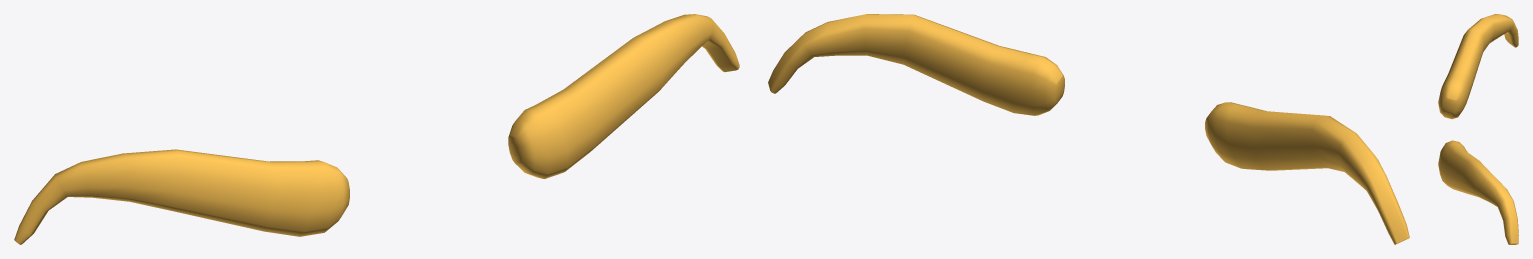
File: Eyebrows_20_05.fbx
3 views of the same model, side by side, from view 1: azimuth 30°, elevation 25°; view 2: azimuth 150°, elevation 25°; view 3: azimuth 270°, elevation 25° (orthographic). The views are drawn at different scales.
Parts seen in each view (by area): view 1: Eyebrows_20_05; view 2: Eyebrows_20_05; view 3: Eyebrows_20_05.
Part boxes in pixels (box(x1,y1,x2,y2)): Eyebrows_20_05: box(14, 14, 739, 244); Eyebrows_20_05: box(768, 14, 1409, 244); Eyebrows_20_05: box(1438, 14, 1518, 244).
Size of the model in its own units: 19.57 by 2.5 by 3.27.
